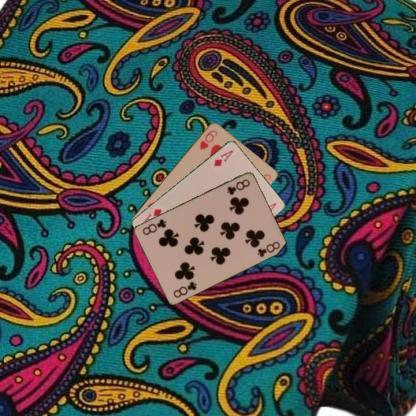6h: (196, 127, 218, 150)
8c: (224, 176, 252, 196), (170, 278, 198, 298)
Ad: (211, 146, 234, 168)
